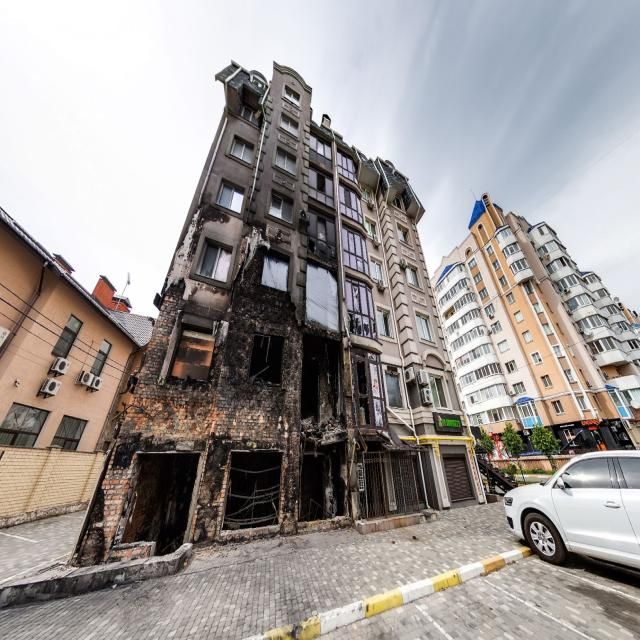broken_window: (116, 449, 201, 557), (221, 448, 283, 533), (168, 322, 217, 384), (193, 235, 234, 288), (247, 332, 284, 388), (260, 249, 290, 293)
building: (70, 58, 488, 569), (430, 191, 639, 466)
roof: (0, 206, 154, 350)
